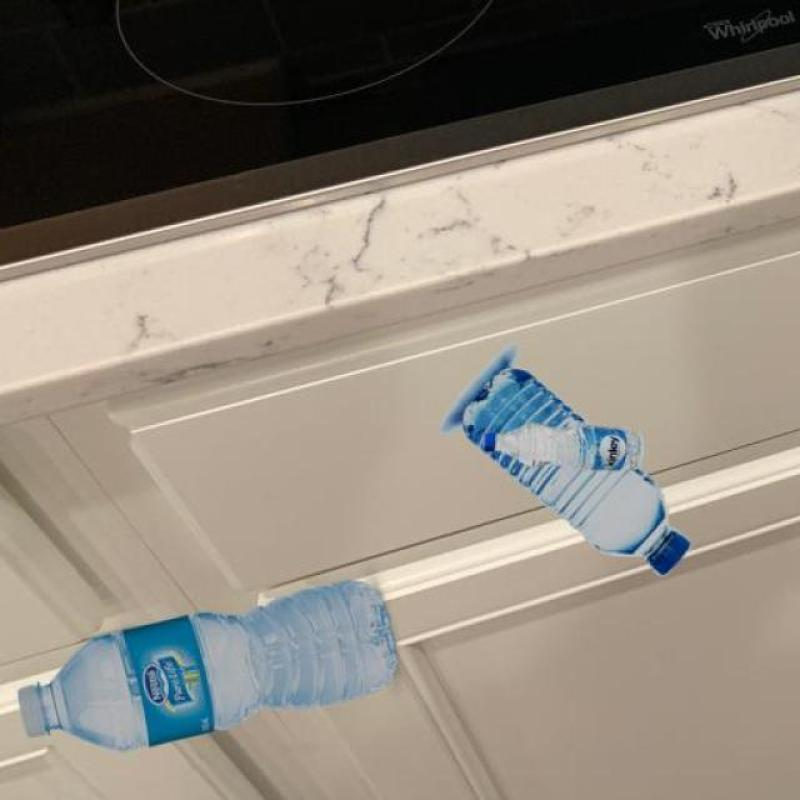botella: (16, 583, 396, 752), (461, 369, 690, 576), (481, 427, 644, 474)
